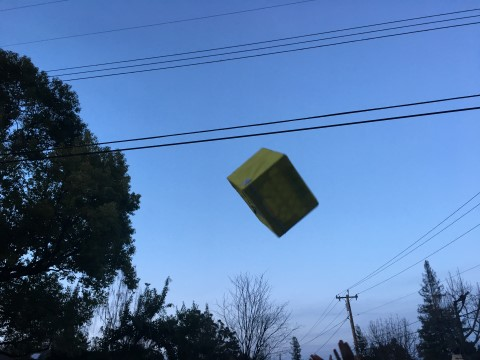cube: (226, 147, 320, 238)
